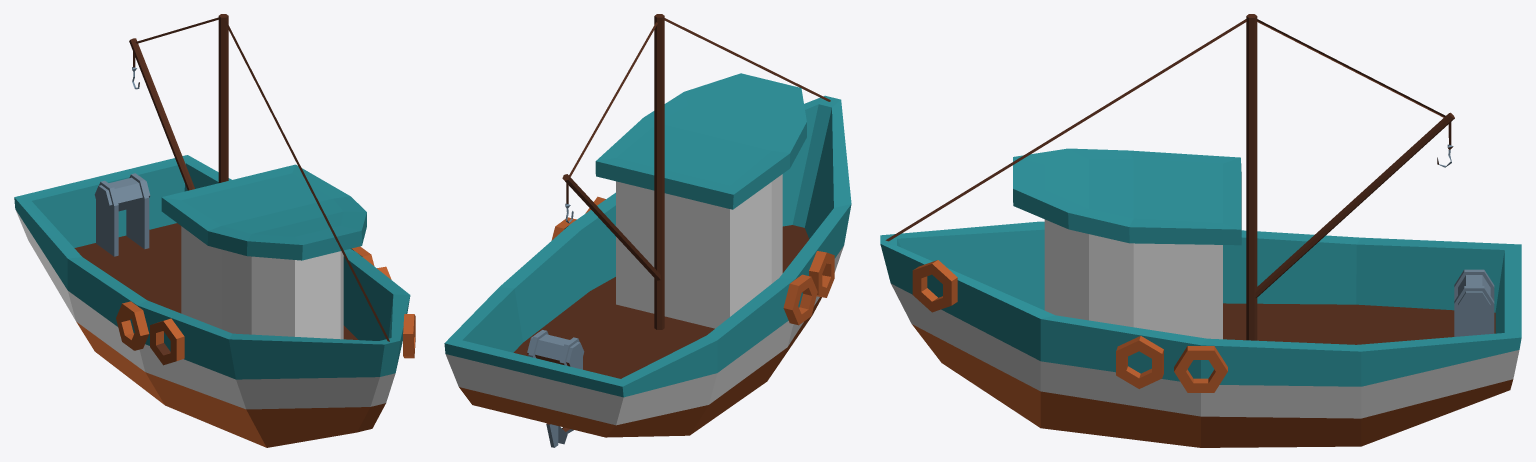
The model's file is Boat.fbx.
3 views of the same model, side by side, from view 1: azimuth 30°, elevation 25°; view 2: azimuth 150°, elevation 25°; view 3: azimuth 270°, elevation 25° (orthographic). The views are drawn at different scales.
Visible parts, largest first — view 1: Baking; view 2: Baking; view 3: Baking.
Part boxes in pixels (x1,y1,x2,y2): Baking: (14, 14, 415, 447); Baking: (444, 14, 851, 447); Baking: (880, 14, 1521, 447).
Bounding box in the file's own units: 337 × 480 × 719.
